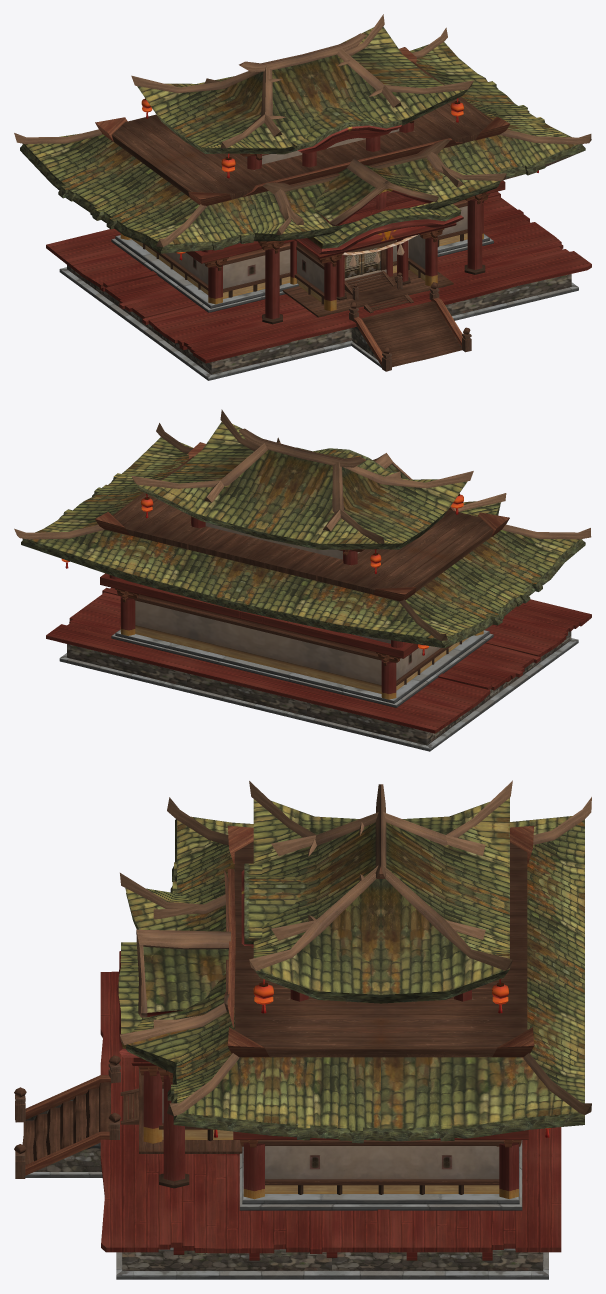
File: handan_field_b_i01a.fbx
The picture shows the model from 3 angles, top to bottom: view 1: azimuth 30°, elevation 25°; view 2: azimuth 150°, elevation 25°; view 3: azimuth 270°, elevation 25°; orthographic projection. The views are drawn at different scales.
Visible parts, largest first — view 1: handan_field_b_i01a:handan_field_b_i01a; view 2: handan_field_b_i01a:handan_field_b_i01a; view 3: handan_field_b_i01a:handan_field_b_i01a.
Boxes of the visible parts, x1=… form: handan_field_b_i01a:handan_field_b_i01a: x1=14, y1=14, x2=591, y2=380; handan_field_b_i01a:handan_field_b_i01a: x1=14, y1=409, x2=591, y2=751; handan_field_b_i01a:handan_field_b_i01a: x1=14, y1=780, x2=591, y2=1279.
Bounding box in the file's own units: 2679 × 1297 × 2106.
1 material, 1 textured.
